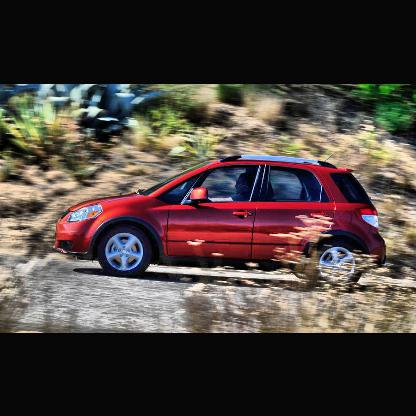Suzuki SX4 Hatchback 2012: (52, 153, 388, 287)
